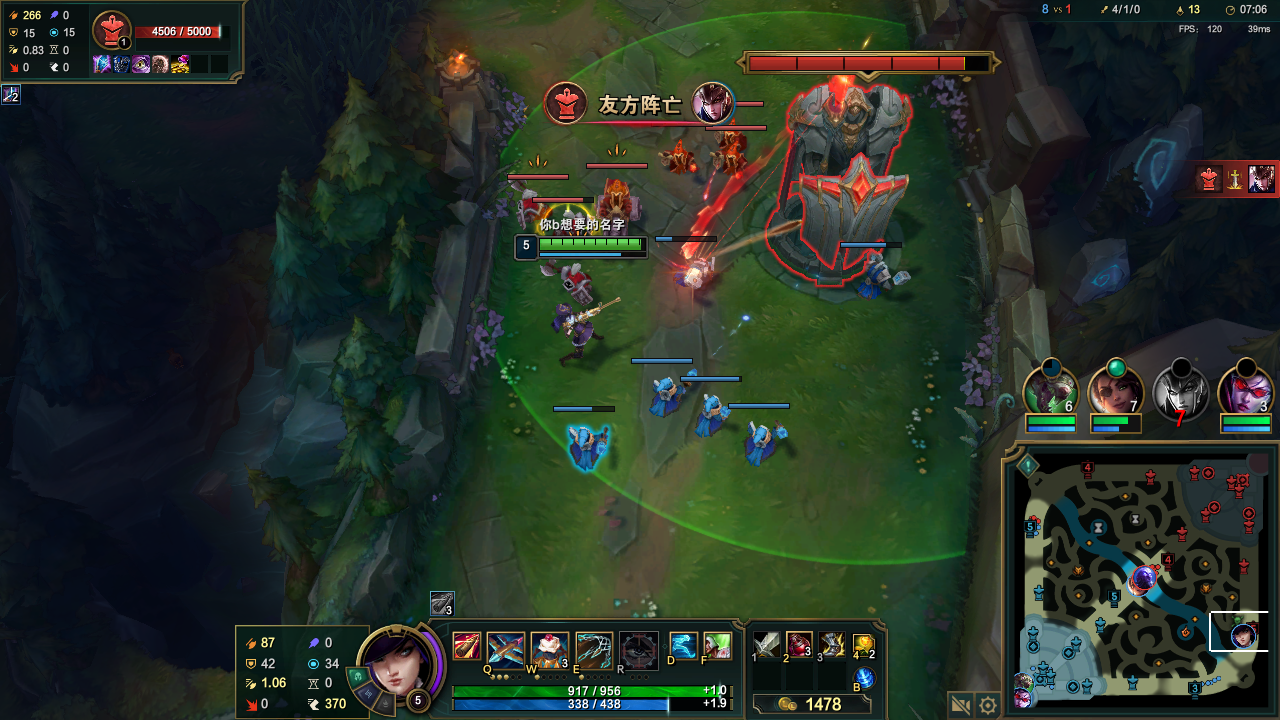DFFYT: (745, 57, 921, 288)
DFXB: (594, 182, 642, 228), (713, 147, 745, 175), (516, 187, 541, 219), (664, 143, 692, 170), (717, 125, 741, 139)
WFXB: (567, 422, 610, 474), (677, 257, 724, 302), (744, 423, 789, 463), (651, 377, 691, 416), (698, 398, 733, 435), (862, 258, 892, 293)
